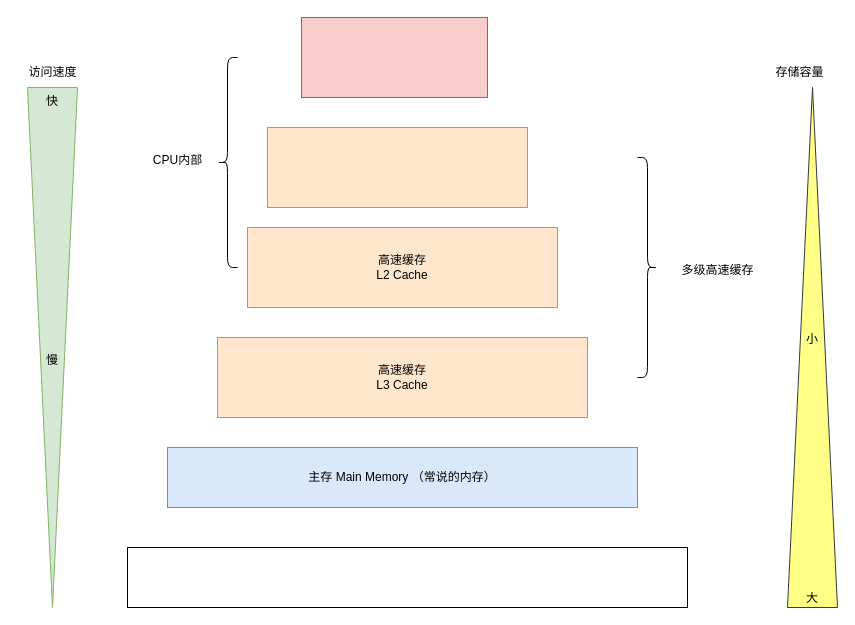
The diagram is 855 pixels wide and 625 high, and some of its shapes have lost their labels. Here are the shapes that lost their labels. From the top down, the centre of each, then its label:
At pixel 394 57: "CPU寄存器 L0 Cache".
At pixel 397 167: "高速缓存 L1 Cache".
